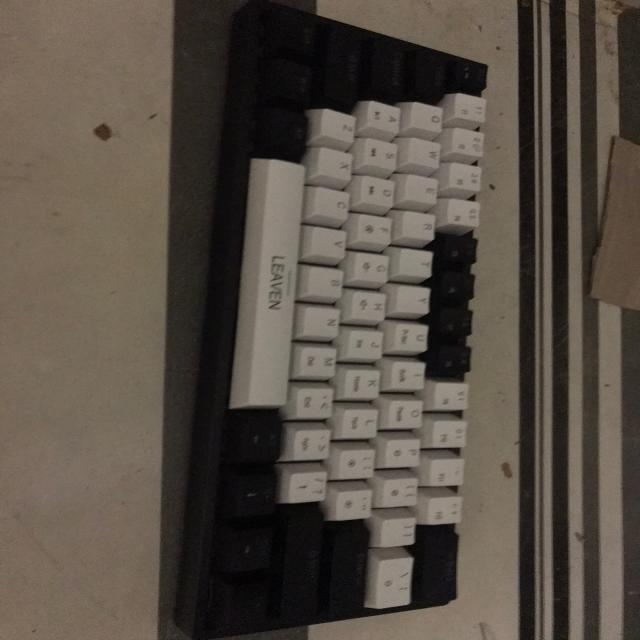-mouse-: (168, 2, 495, 640)
